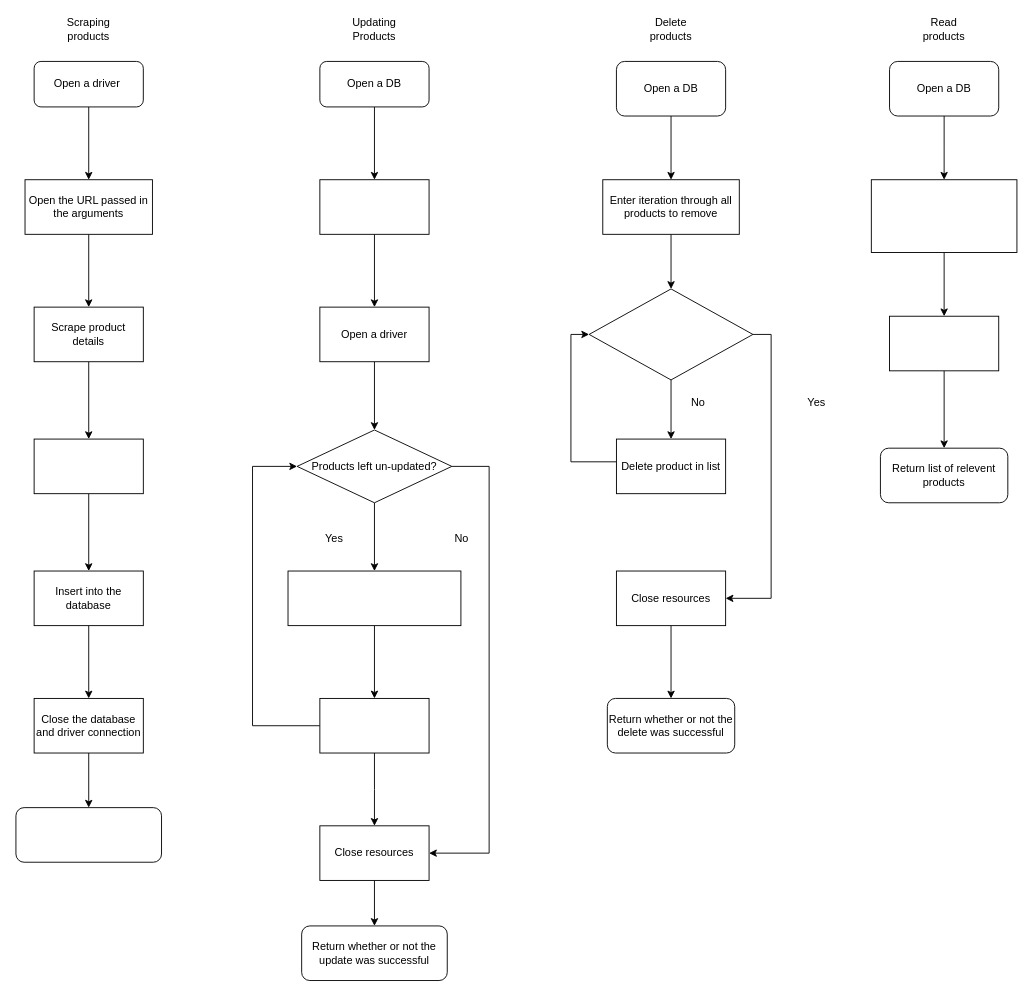
This 1033x996 diagram has some shape labels left out. Each missing label, with the centre of its shape:
All products exhausted?: the point at 670,334
Open database connection: the point at 88,466
rescrape the website and update things such as sale, price, and availablility: the point at 374,598
Return whether or not the insertion was successful: the point at 88,834
Select all product URLs from DB: the point at 374,206
Select relevant products: the point at 944,343
Update each relevent column: the point at 374,725
Write join query between the different search criteria: the point at 943,216
